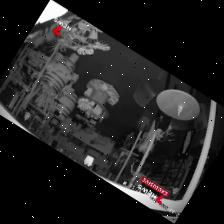person: (89, 131, 109, 144)
